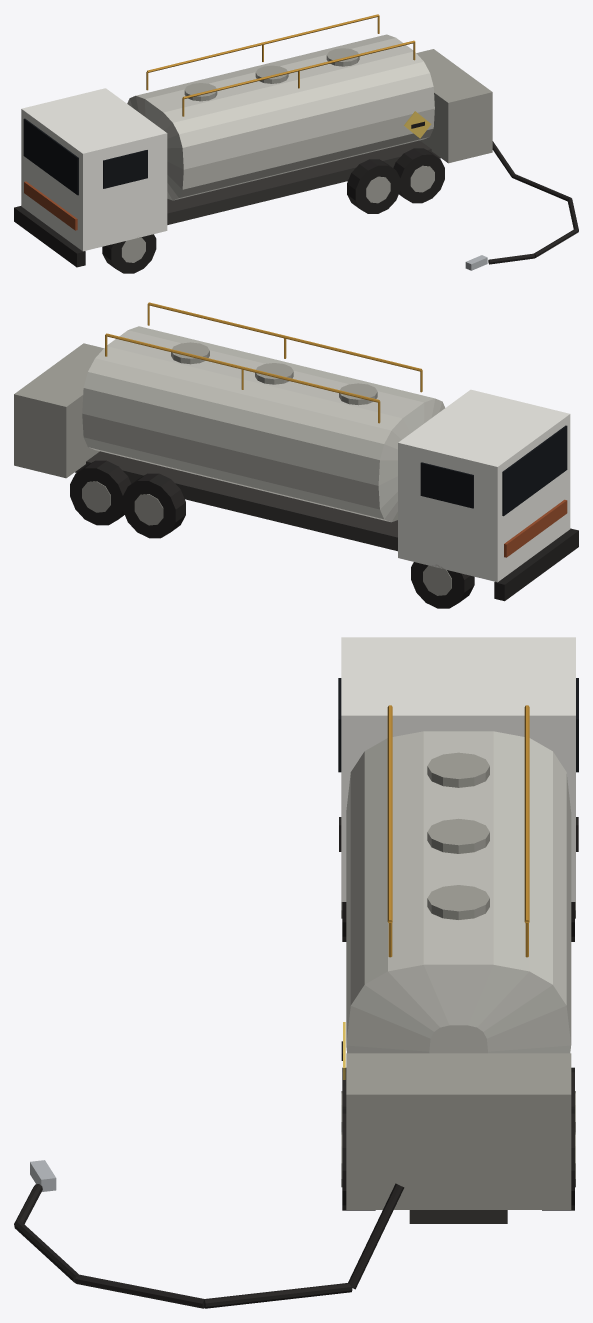
File: airport_fuel_truck.glb
3 renders of one model, top to bottom at view 1: azimuth 30°, elevation 25°; view 2: azimuth 150°, elevation 25°; view 3: azimuth 270°, elevation 25°, orthographic. The views are drawn at different scales.
Parts seen in each view (by area): view 1: airport_fuel_truck; view 2: airport_fuel_truck; view 3: airport_fuel_truck.
Part boxes in pixels (<box>): airport_fuel_truck: <box>14,14,578,273</box>; airport_fuel_truck: <box>14,302,578,608</box>; airport_fuel_truck: <box>14,637,578,1308</box>.
Bounding box in the file's own units: 10.35 × 3.27 × 5.78.
